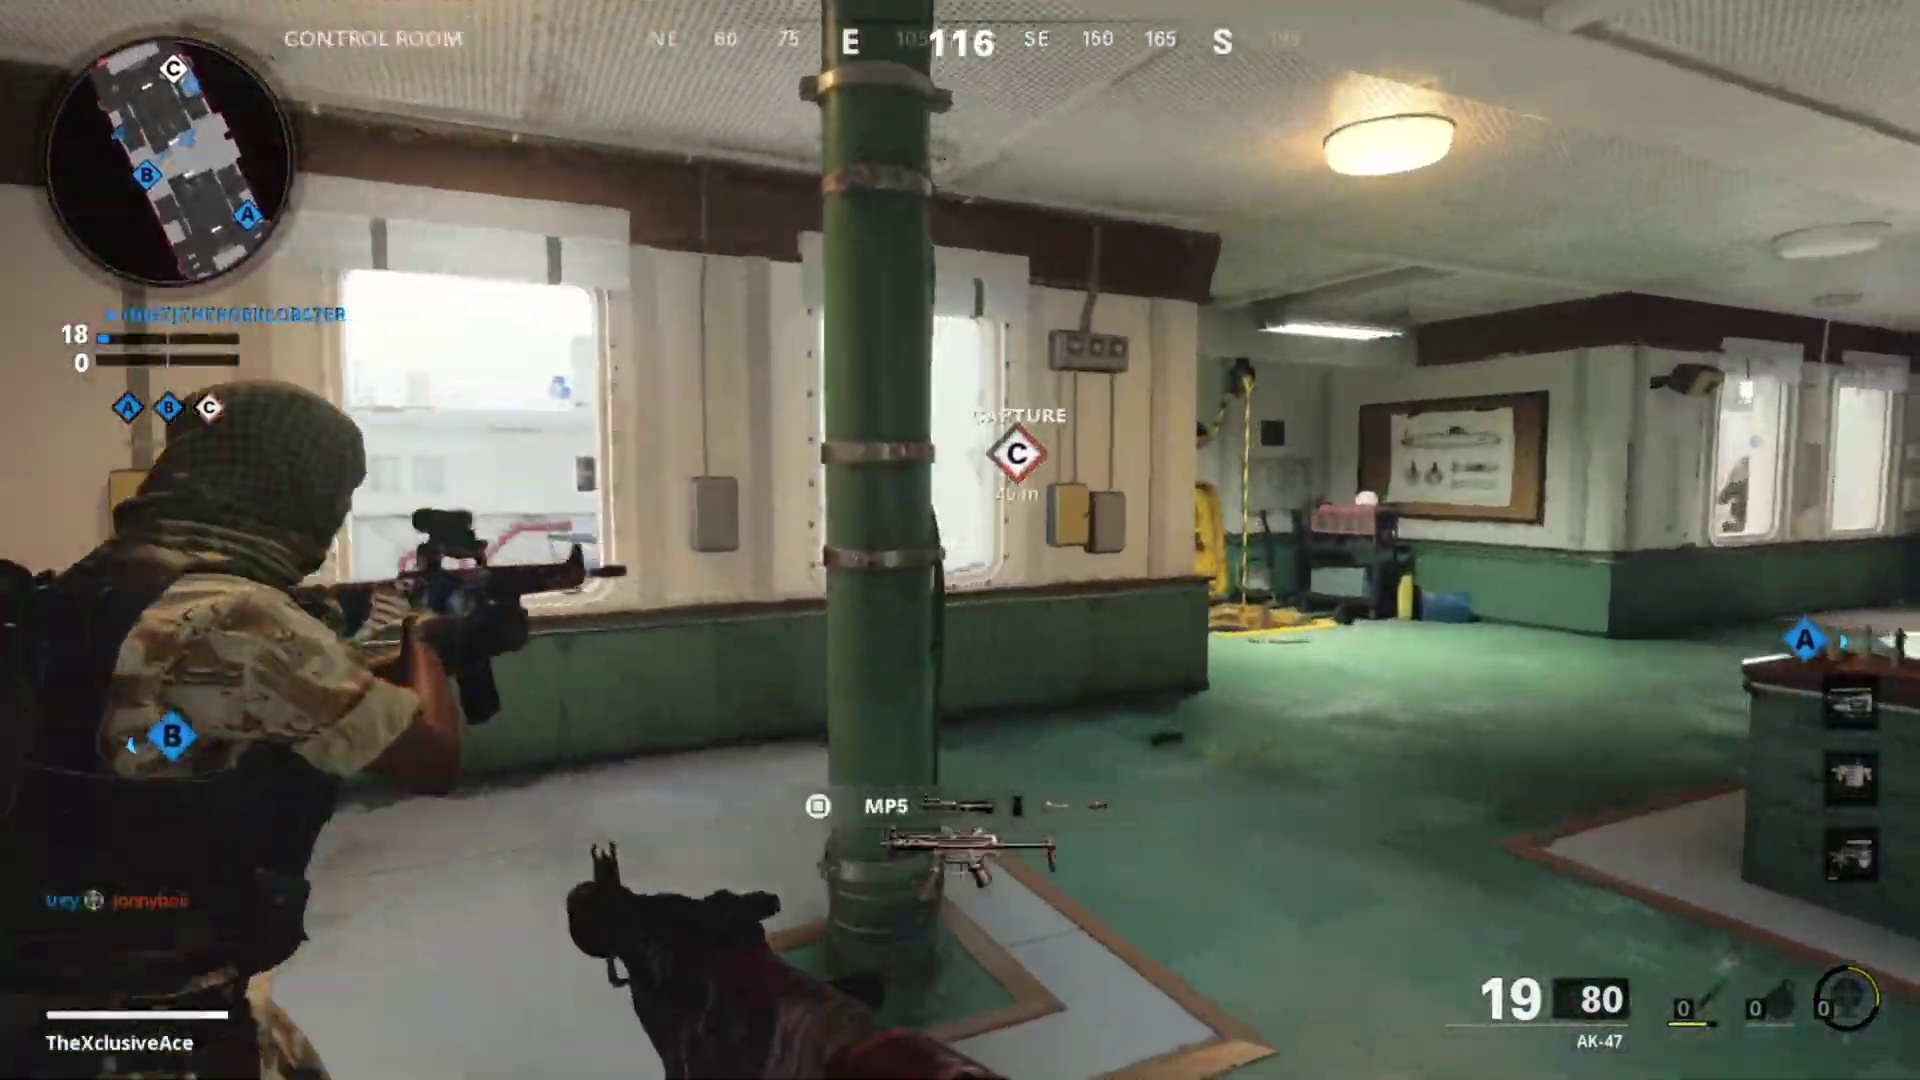head: (96, 368, 373, 583)
person: (3, 376, 457, 1061)
